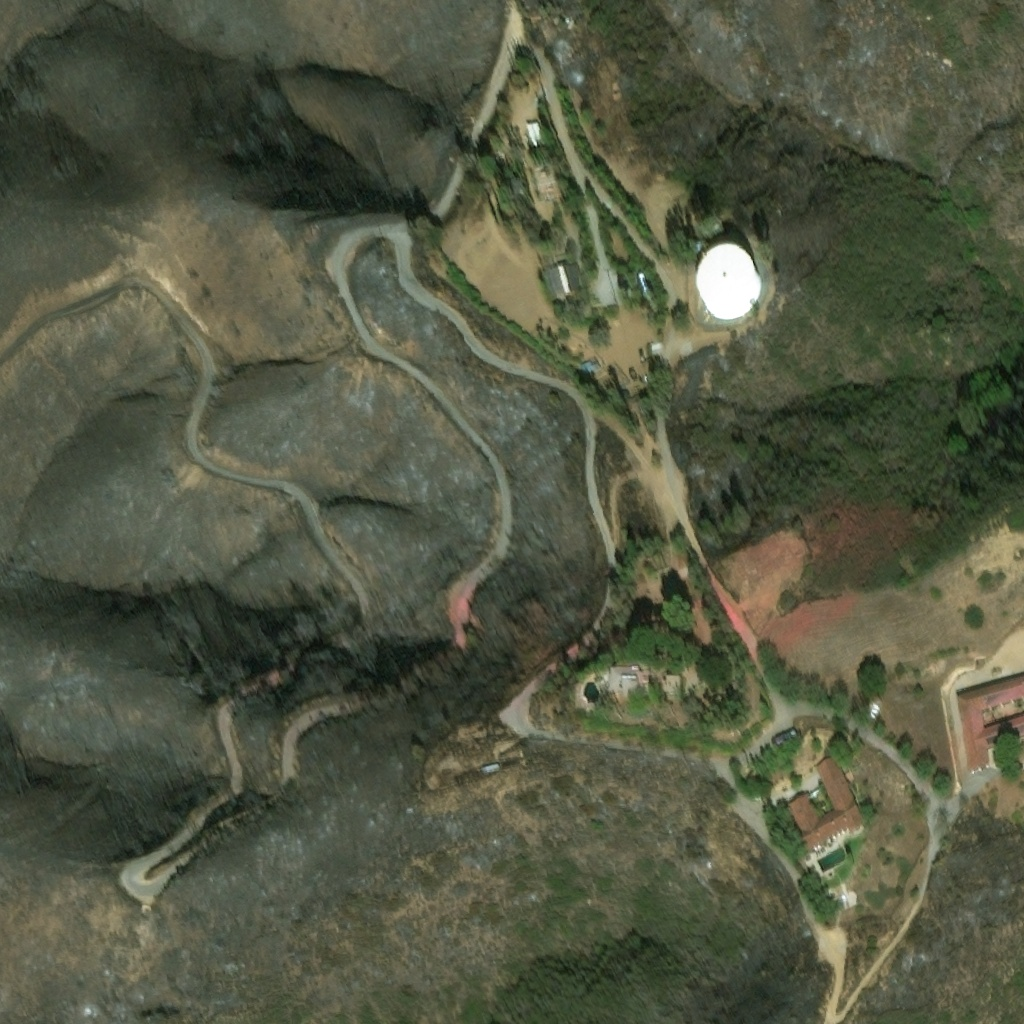0 no-damage: (784, 749, 868, 848), (953, 674, 1023, 774), (696, 246, 761, 317), (607, 665, 657, 702), (544, 257, 582, 297), (529, 156, 559, 195), (631, 265, 655, 298), (769, 719, 798, 741), (524, 115, 543, 142), (576, 356, 600, 374), (482, 762, 498, 771)
4 un-classified: (509, 177, 526, 201), (517, 14, 539, 31), (559, 34, 567, 58), (646, 333, 661, 345), (699, 222, 718, 231), (691, 238, 706, 249), (831, 888, 846, 898)
